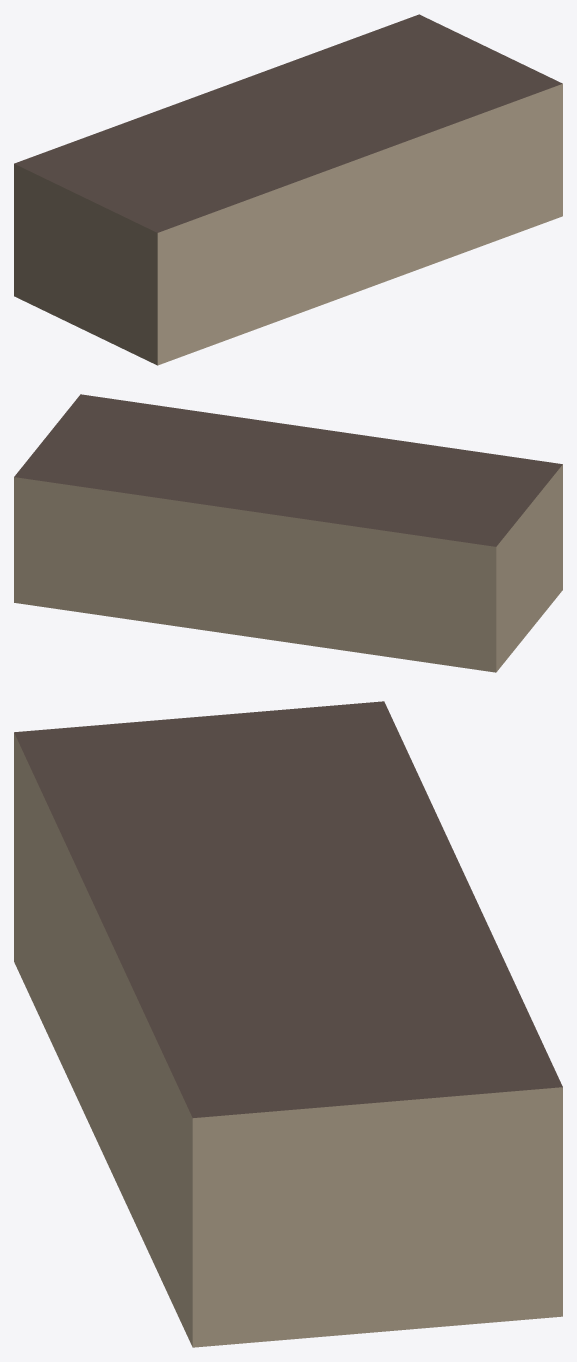
The picture shows the model from 3 angles, top to bottom: view 1: azimuth 30°, elevation 25°; view 2: azimuth 150°, elevation 25°; view 3: azimuth 270°, elevation 25°; orthographic projection. The views are drawn at different scales.
Parts seen in each view (by area): view 1: HP-w858839006; view 2: HP-w858839006; view 3: HP-w858839006.
Boxes of the visible parts, bbox=[...] form: HP-w858839006: bbox=[14, 14, 562, 365]; HP-w858839006: bbox=[14, 394, 562, 672]; HP-w858839006: bbox=[14, 701, 562, 1347].
Size of the model in its own units: 35.06 by 9 by 19.51.
